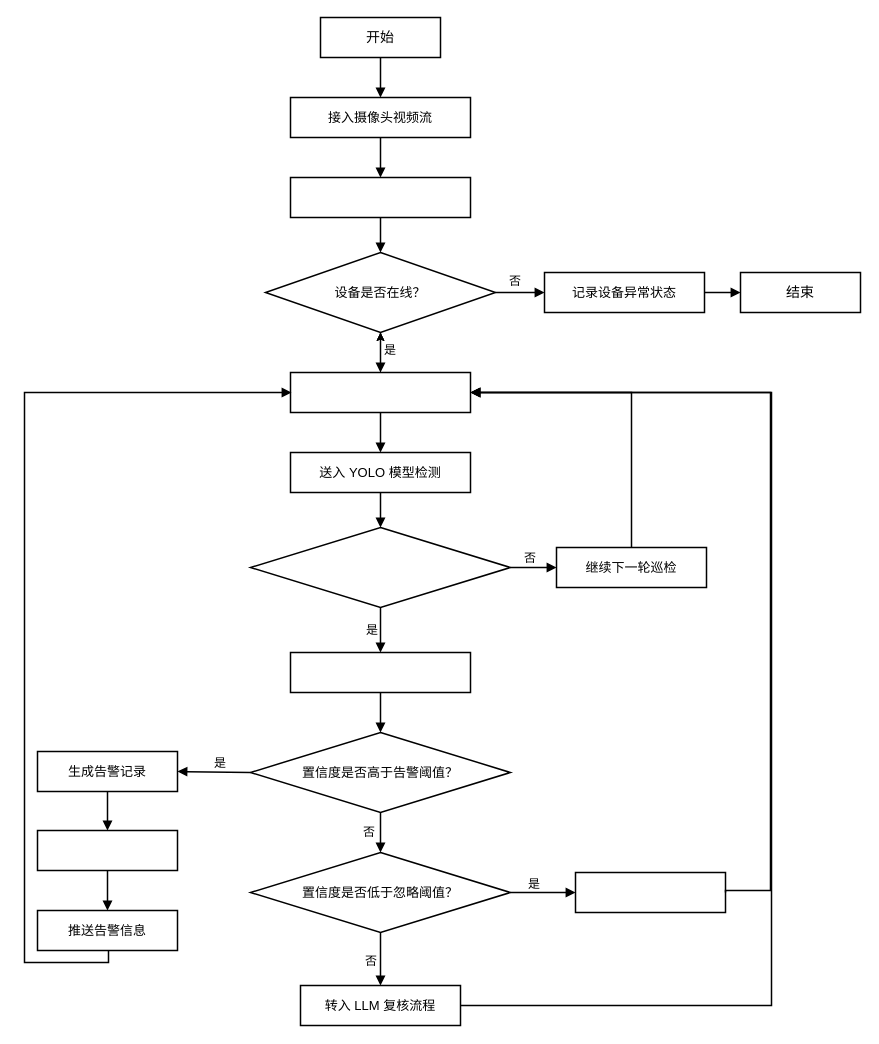
This 879x1044 diagram has some shape labels left out. Here are the shapes that lost their labels. From the top down, the box of each, then its label:
(289, 176, 471, 218): 校验设备状态
(289, 371, 471, 413): 按设定间隔抓取视频帧
(249, 526, 511, 608): 是否检测到疑似火情目标？
(289, 651, 471, 693): 输出检测类别与置信度
(36, 829, 178, 871): 保存告警截图
(574, 871, 726, 913): 记为低风险结果
